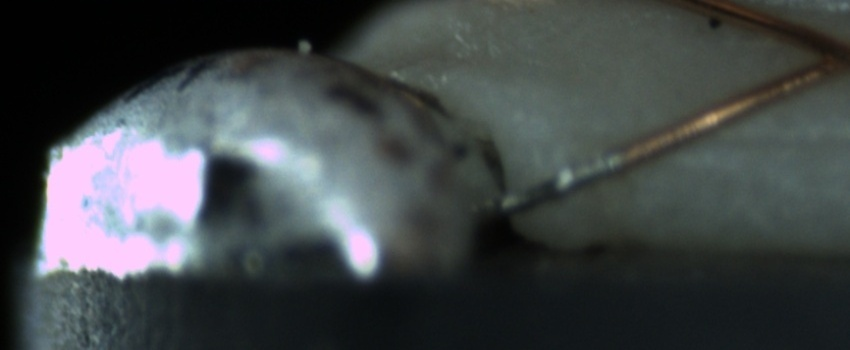CL: (793, 20, 848, 82)
DL: (679, 106, 850, 173)
TB: (550, 159, 577, 200)
TS: (490, 148, 618, 216)
TTCW: (496, 128, 654, 216)
